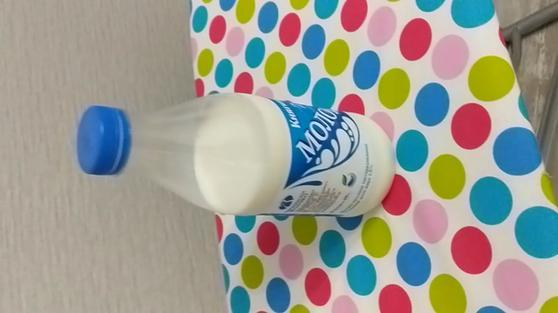milk: (61, 66, 406, 231)
